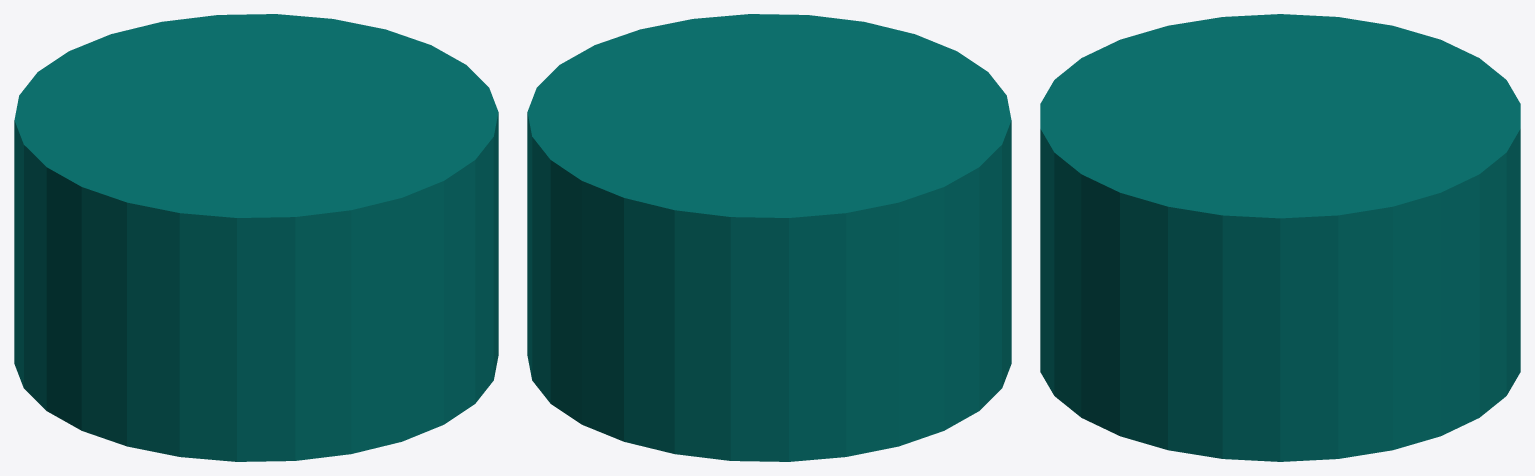
Rendered from cilindro_prueba.dae.
3 renders of one model, left to right at view 1: azimuth 30°, elevation 25°; view 2: azimuth 150°, elevation 25°; view 3: azimuth 270°, elevation 25°, orthographic.
Parts seen in each view (by area): view 1: node0; view 2: node0; view 3: node0.
Boxes of the visible parts, x1=… form: node0: x1=14, y1=14, x2=498, y2=461; node0: x1=527, y1=14, x2=1011, y2=461; node0: x1=1040, y1=14, x2=1520, y2=461.
Size of the model in its own units: 0.018 by 0.0179 by 0.01.
